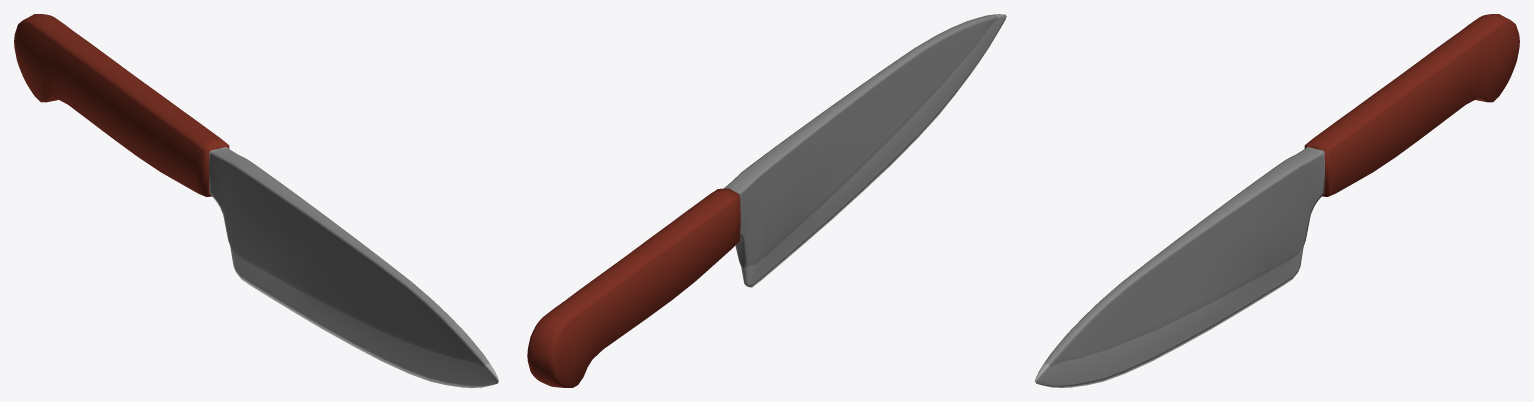
The model's file is lowPolyknife.fbx.
3 renders of one model, left to right at view 1: azimuth 30°, elevation 25°; view 2: azimuth 150°, elevation 25°; view 3: azimuth 330°, elevation 25°, orthographic.
Parts seen in each view (by area): view 1: SM_Knife; view 2: SM_Knife; view 3: SM_Knife.
Boxes of the visible parts, left/top/right/bottom form: SM_Knife: left=14, top=14, right=498, bottom=387; SM_Knife: left=527, top=14, right=1006, bottom=387; SM_Knife: left=1035, top=14, right=1519, bottom=387.
Size of the model in its own units: 8.52 by 34.65 by 247.
